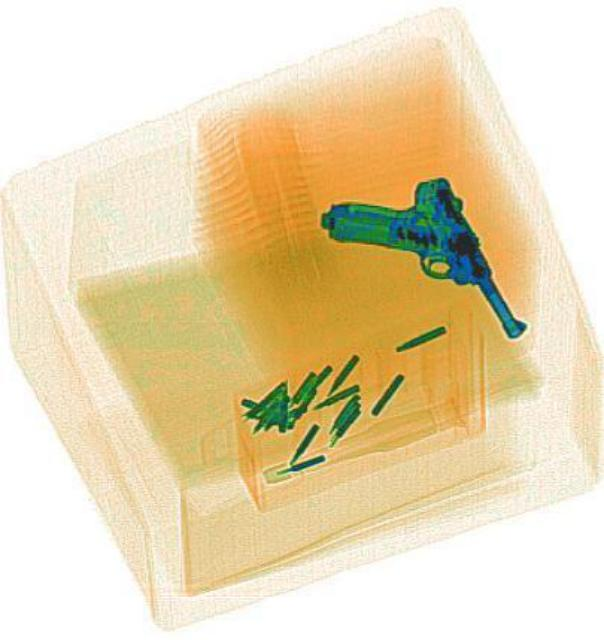Gun: (311, 150, 526, 388)
